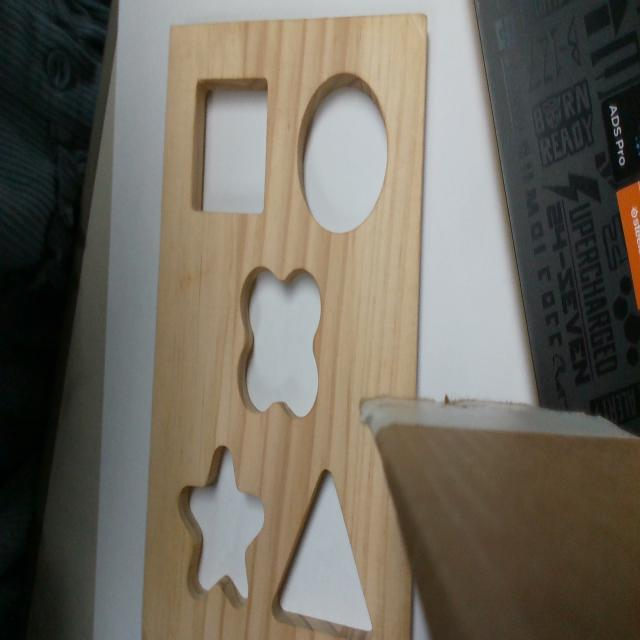circle: (298, 75, 389, 235)
flower: (237, 270, 320, 416)
square: (190, 75, 267, 214)
star: (179, 446, 264, 611)
triangle: (269, 467, 377, 639)
